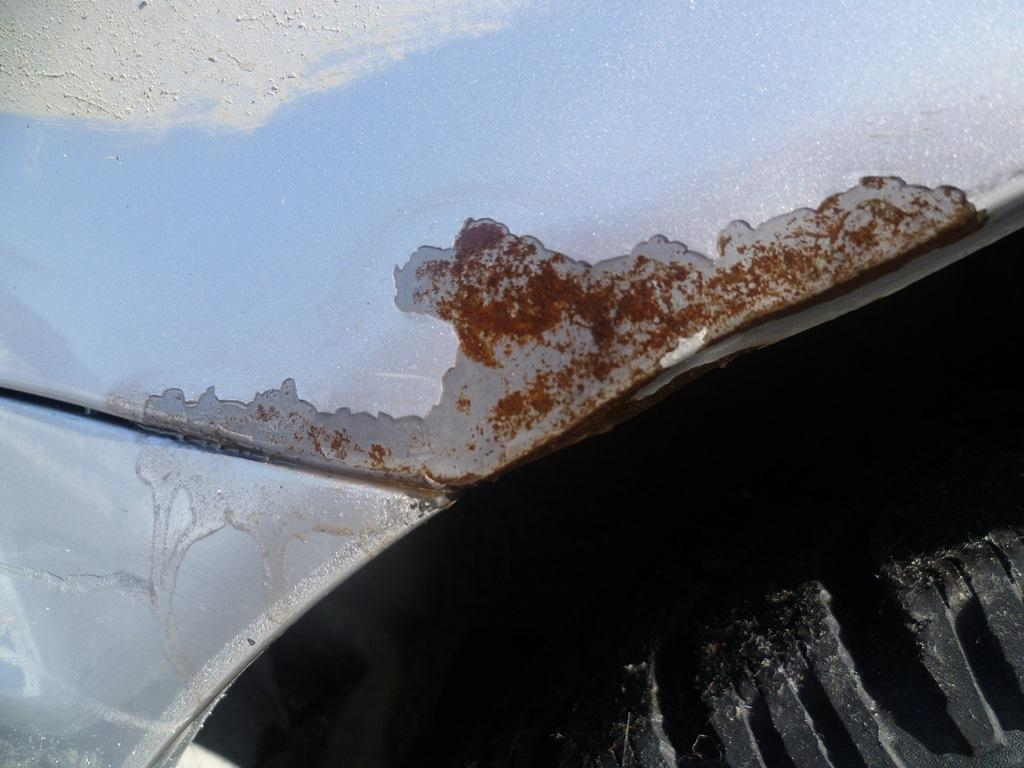corrosion: (143, 177, 985, 486)
